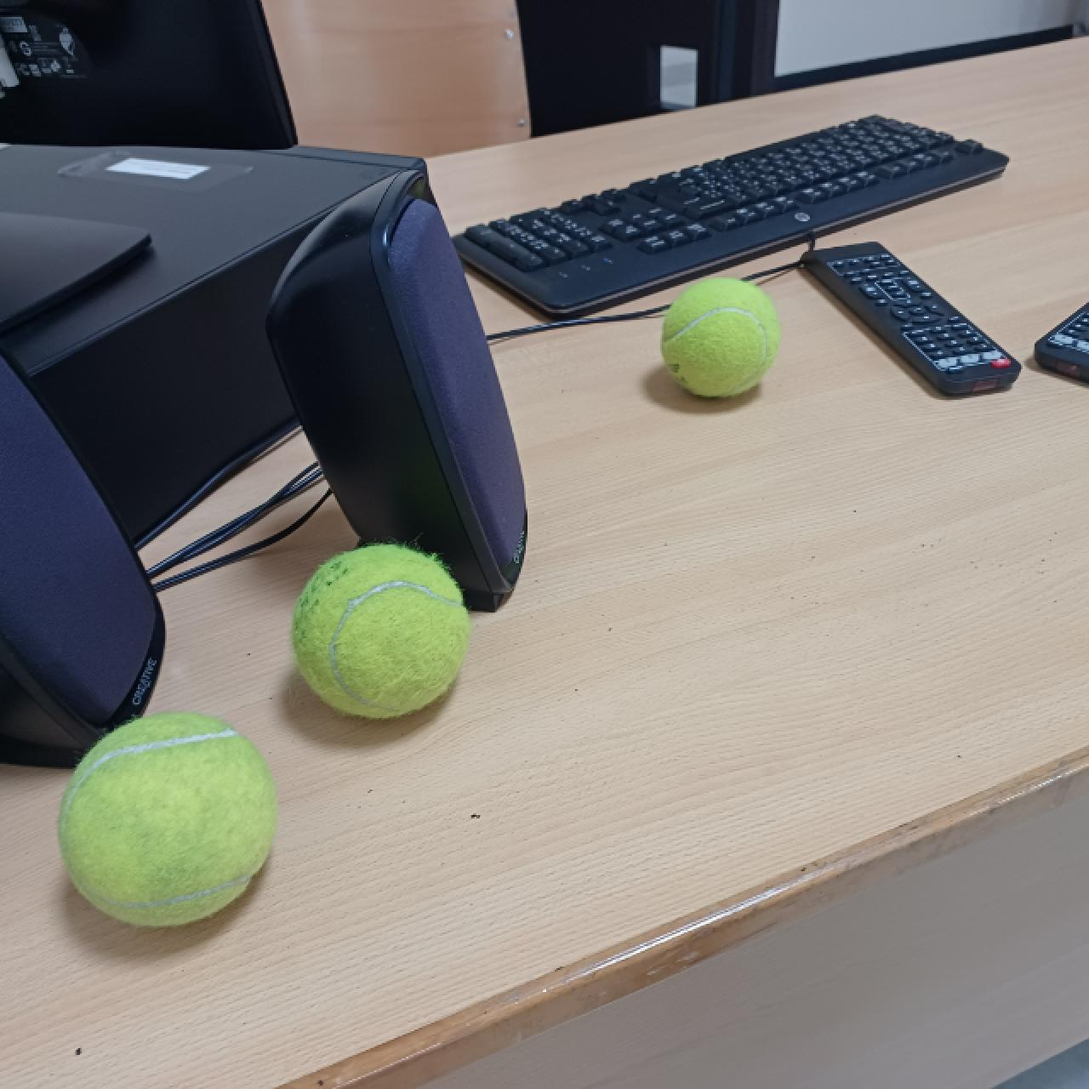tennis-ball: (58, 710, 277, 930), (290, 543, 469, 721), (660, 275, 783, 400)
